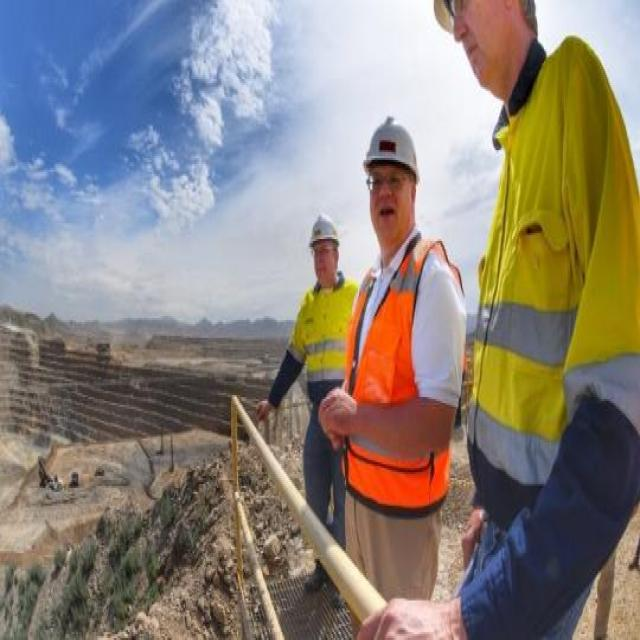Reflective-Jacket: (469, 53, 636, 490), (342, 233, 458, 510), (293, 274, 361, 426)
Safety-Helmet: (359, 108, 423, 182), (302, 207, 343, 255)
